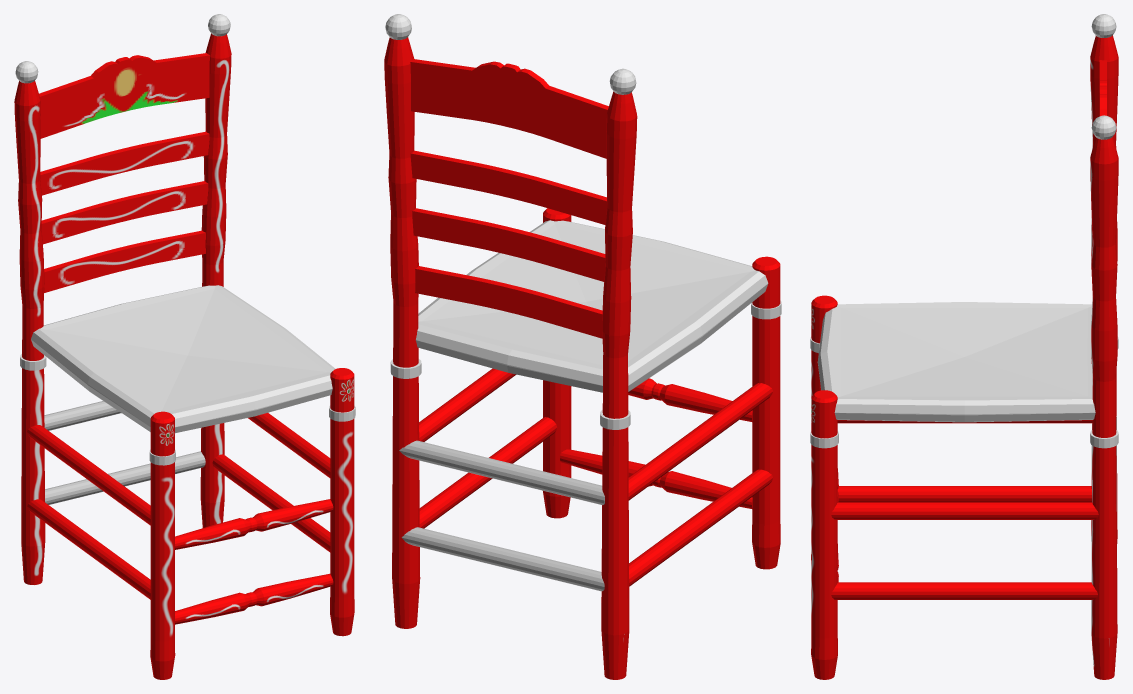
Rendered from sillasevillana.fbx.
3 renders of one model, left to right at view 1: azimuth 30°, elevation 25°; view 2: azimuth 150°, elevation 25°; view 3: azimuth 270°, elevation 25°, orthographic. The views are drawn at different scales.
Visible parts, largest first — view 1: Cubo, Espaldar 1, Pata trasera D, Pata delantera D, Cilindro, Cilindro.002, Cilindro.001, Cilindro.003, Anillo delantero D, Esfera; view 2: Pata trasera D, Cubo, Espaldar 1, Pata delantera D, Cilindro.003, Cilindro.002, Cilindro.001, Cilindro, Anillo delantero D, Esfera; view 3: Cubo, Pata trasera D, Cilindro.001, Pata delantera D, Cilindro.002, Esfera, Anillo delantero D.
Boxes of the visible parts, bbox=[...] form: Cubo: bbox=[31, 285, 335, 433]; Espaldar 1: bbox=[39, 53, 210, 292]; Pata trasera D: bbox=[14, 33, 231, 584]; Pata delantera D: bbox=[150, 368, 354, 679]; Cilindro: bbox=[175, 499, 333, 624]; Cilindro.002: bbox=[27, 425, 150, 599]; Cilindro.001: bbox=[212, 413, 330, 552]; Cilindro.003: bbox=[44, 401, 205, 504]; Anillo delantero D: bbox=[20, 354, 355, 465]; Esfera: bbox=[15, 14, 230, 83]; Pata trasera D: bbox=[384, 37, 637, 679]; Cubo: bbox=[415, 220, 768, 392]; Espaldar 1: bbox=[410, 59, 608, 338]; Pata delantera D: bbox=[543, 208, 780, 569]; Cilindro.003: bbox=[399, 440, 604, 591]; Cilindro.002: bbox=[628, 383, 772, 586]; Cilindro.001: bbox=[419, 368, 556, 528]; Cilindro: bbox=[560, 378, 752, 508]; Anillo delantero D: bbox=[390, 300, 781, 429]; Esfera: bbox=[385, 14, 636, 94]; Cubo: bbox=[817, 302, 1095, 422]; Pata trasera D: bbox=[1090, 35, 1118, 679]; Cilindro.001: bbox=[831, 502, 1098, 599]; Pata delantera D: bbox=[811, 295, 837, 679]; Cilindro.002: bbox=[837, 420, 1092, 502]; Esfera: bbox=[1091, 14, 1116, 139]; Anillo delantero D: bbox=[810, 336, 1118, 448].
Size of the model in its own units: 38.11 by 44.12 by 88.73.
